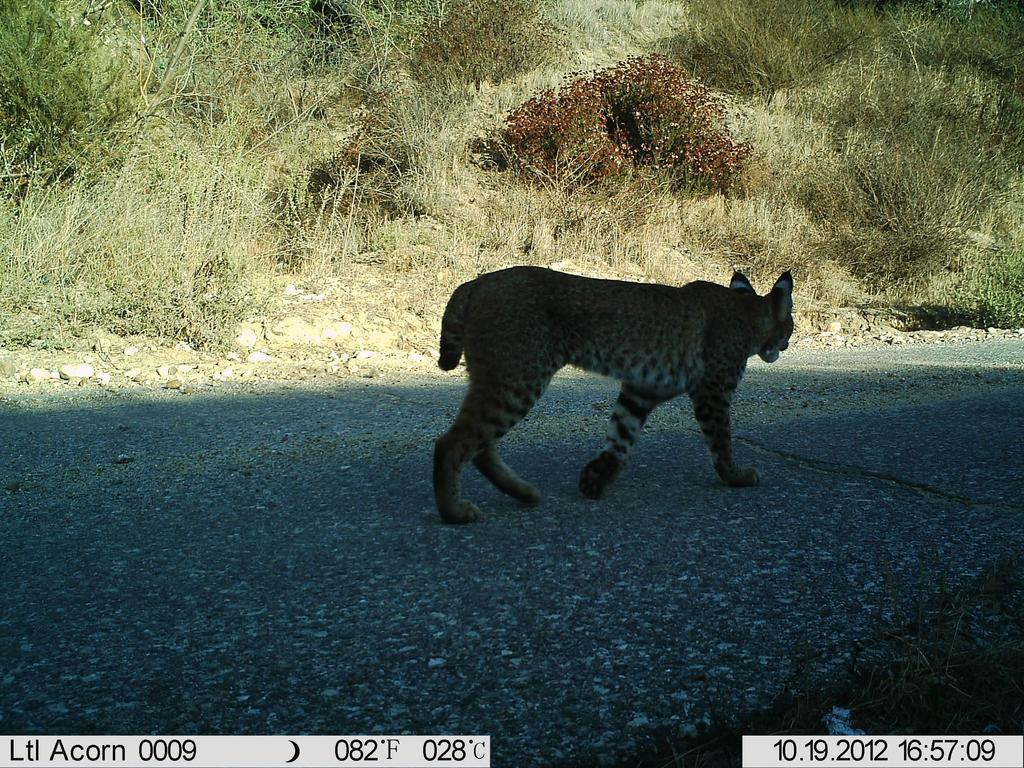bobcat: (417, 176, 845, 551)
